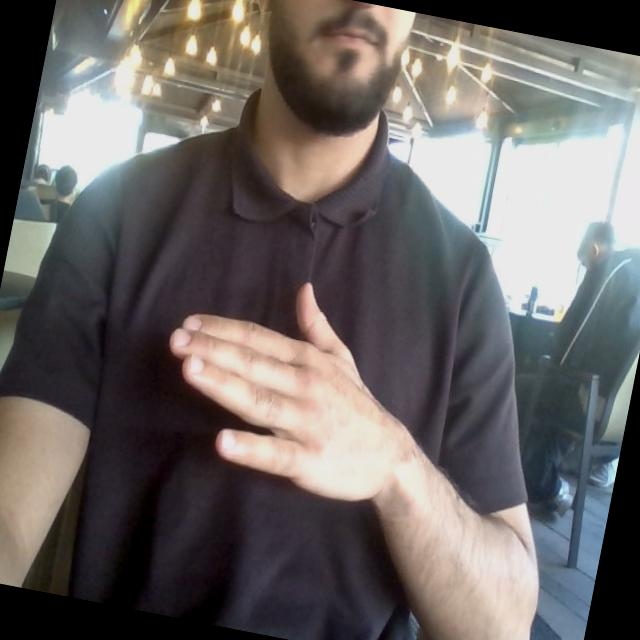Hand: (170, 284, 414, 500)
